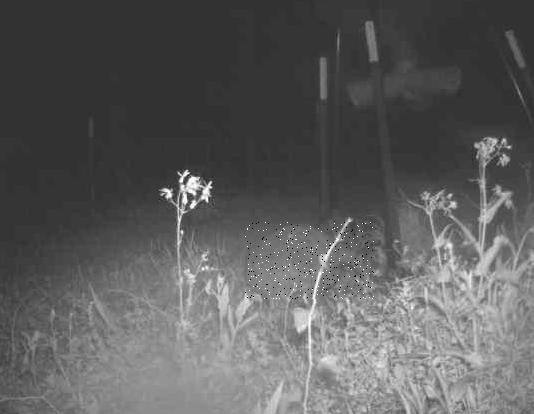Raccoon: (246, 223, 375, 300)
